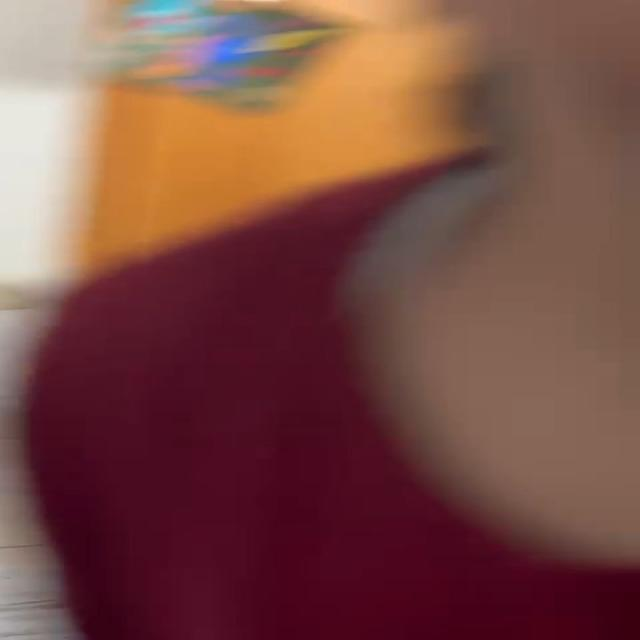authorized: (17, 0, 636, 638)
